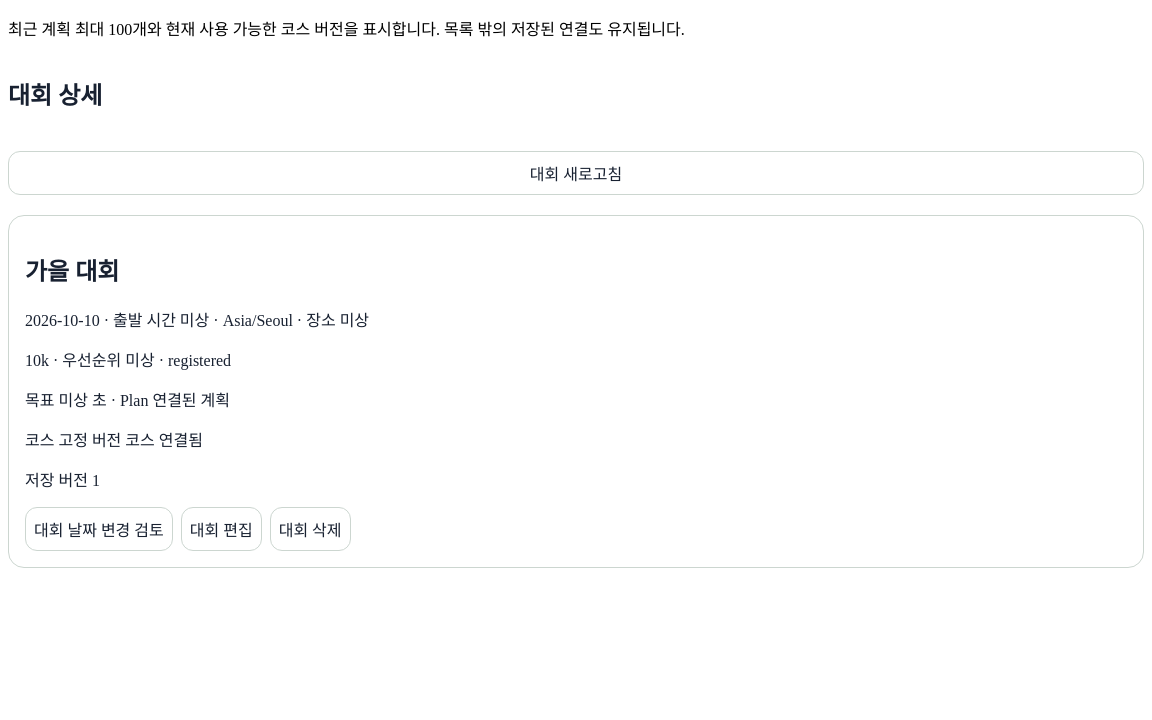
Test: rejects catalog-shaped current plans in the review loader instead of fabricating a PlanRead
The width and height of the screenshot is (1152, 720).
Click the button "대회 날짜 변경 검토" at x=99, y=529, box [25,507,173,551]
(page scrolled)
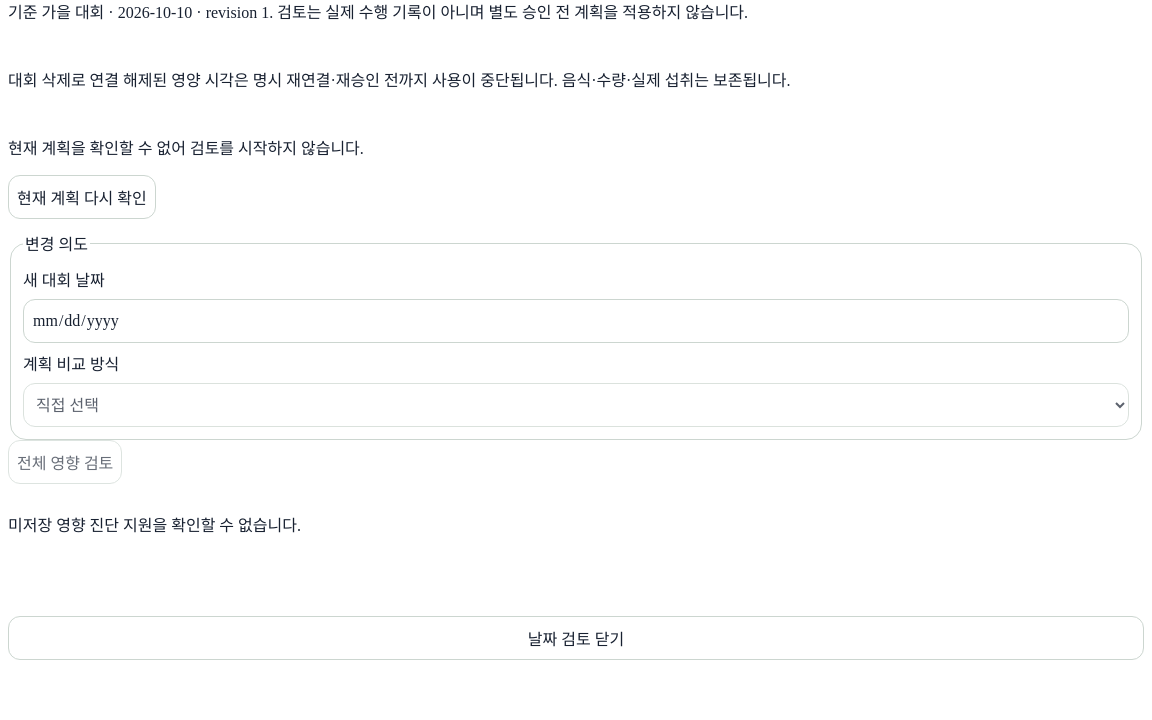
Expected: the text "현재 계획을 확인할 수 없어 검토를 시작하지 않습니다." is shown, [8,140,364,157]
Expected: the button "전체 영향 검토" is disabled, [8,440,122,484]
